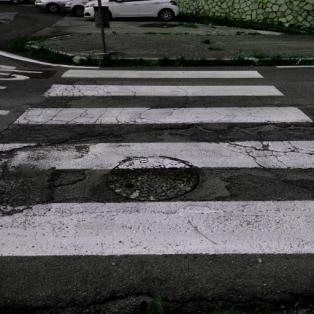Paso de Cebra: (1, 138, 314, 262), (11, 82, 314, 128)
